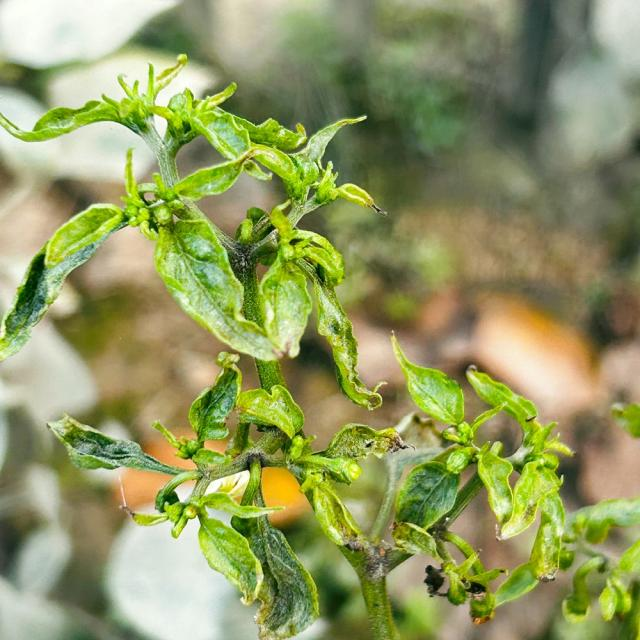Chilli_Leaf_Curl: (1, 52, 638, 638), (0, 52, 388, 388), (386, 330, 574, 624), (388, 329, 466, 426)
